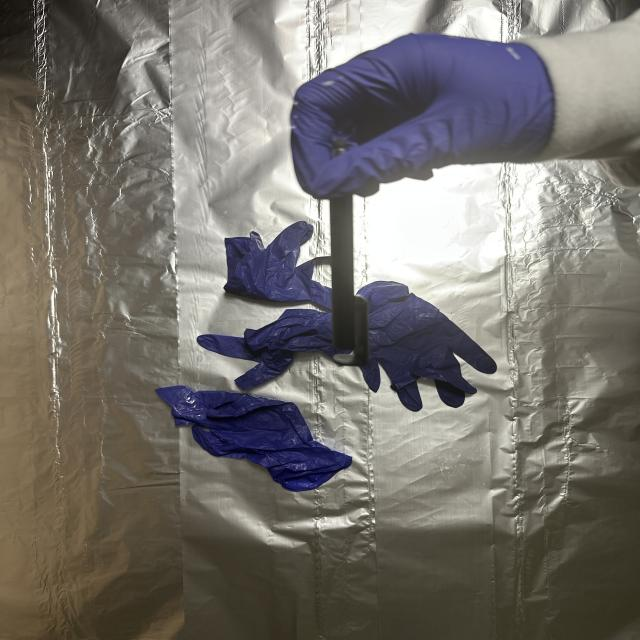gloves_contaminated: (291, 34, 554, 198)
